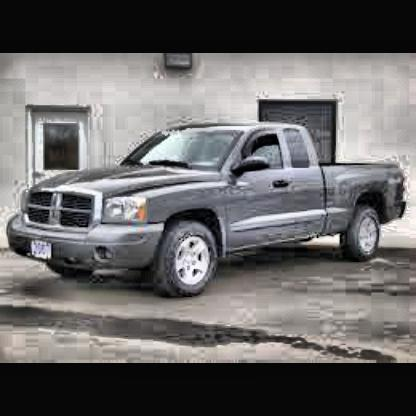Dodge Dakota Club Cab 2007: (10, 126, 408, 302)
